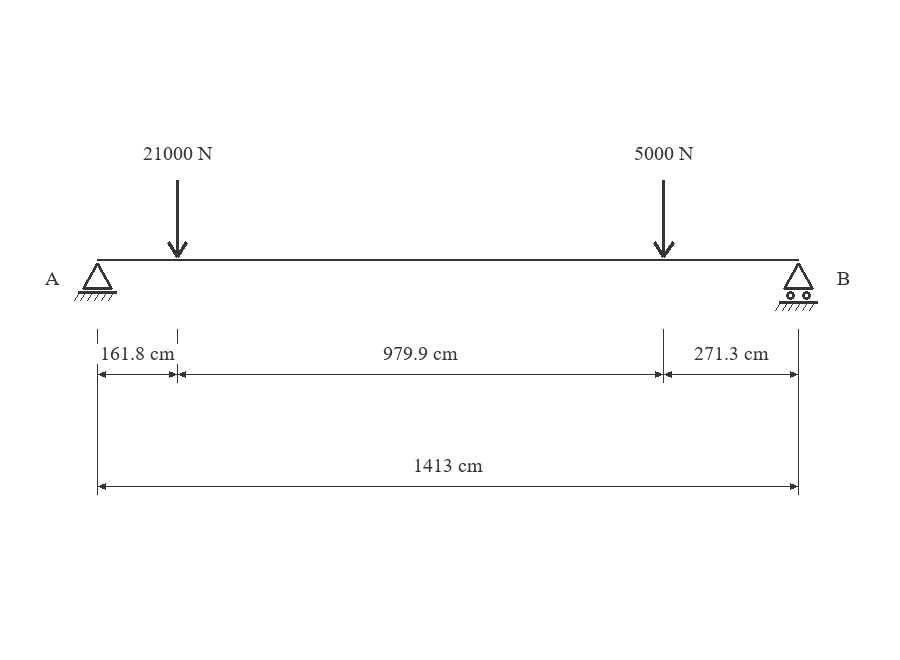pin_support: (74, 263, 117, 301)
point_load: (653, 180, 675, 258), (167, 180, 188, 258)
roller_support: (775, 263, 818, 311)
